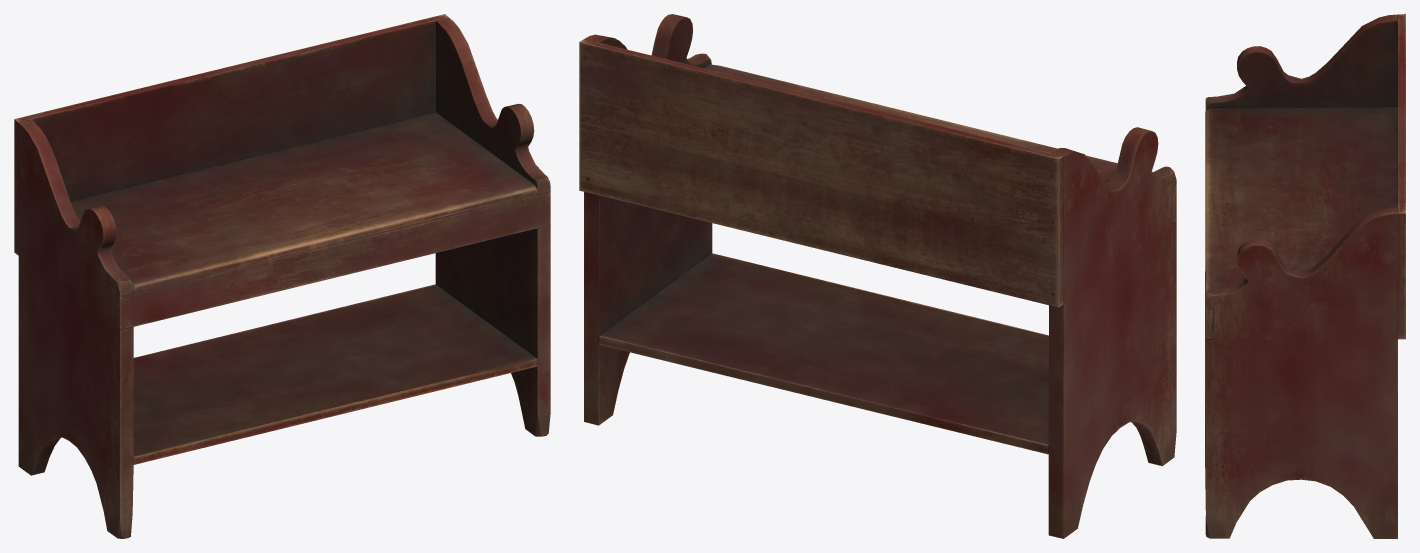
Rendered from painted_wooden_bench.glb.
The picture shows the model from 3 angles, left to right: view 1: azimuth 30°, elevation 25°; view 2: azimuth 150°, elevation 25°; view 3: azimuth 270°, elevation 25°; orthographic projection. The views are drawn at different scales.
Parts seen in each view (by area): view 1: painted_wooden_bench; view 2: painted_wooden_bench; view 3: painted_wooden_bench.
Boxes of the visible parts, x1=… form: painted_wooden_bench: x1=14, y1=14, x2=550, y2=538; painted_wooden_bench: x1=579, y1=14, x2=1176, y2=538; painted_wooden_bench: x1=1205, y1=14, x2=1405, y2=538.
Size of the model in its own units: 1.16 by 0.8893 by 0.4965.
Materials: 1 (1 with a texture image).
